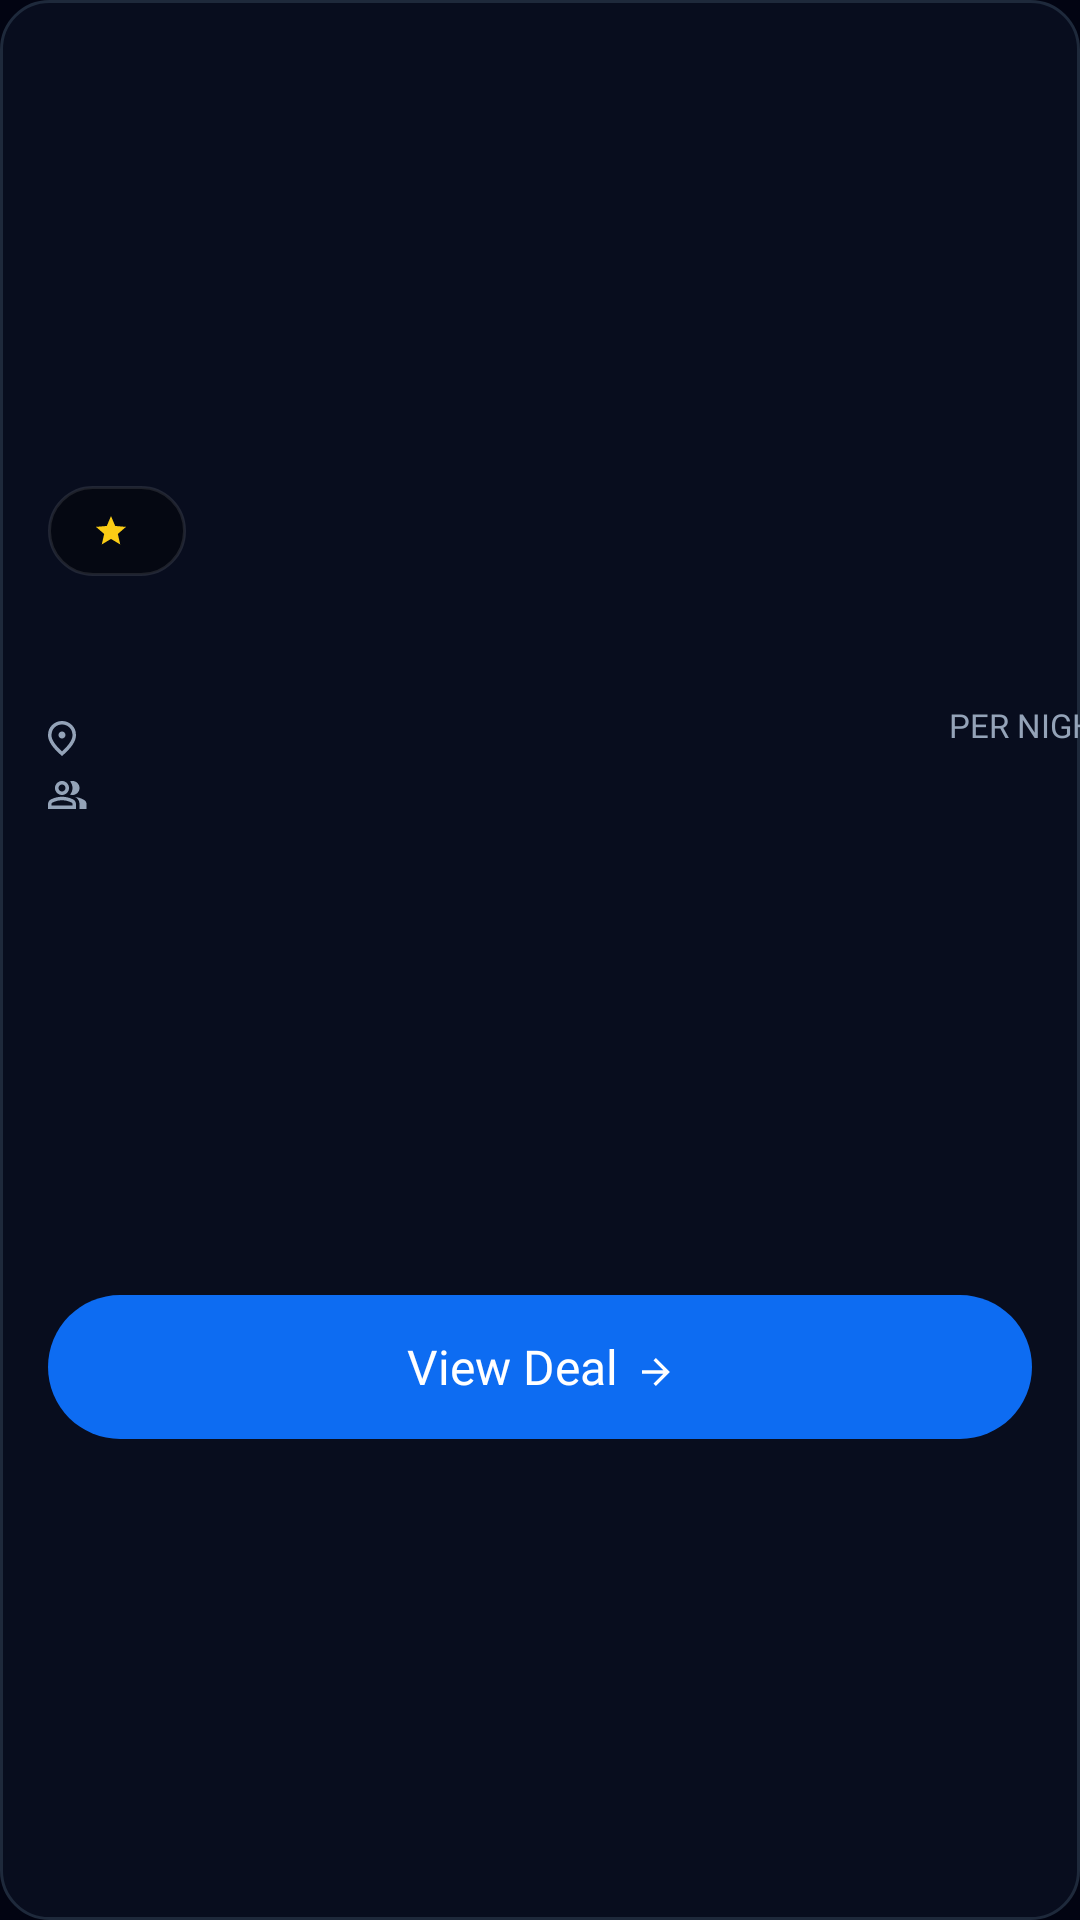

Locate icon controls on the screen. Image size 1080w x 1920h, boxes as box=[x1, y1, x2, y2].
hotel guests: box=[48, 781, 87, 809]
hotel location: box=[48, 721, 76, 756]
star: box=[96, 516, 126, 545]
trans right arrow: box=[642, 1358, 670, 1386]
